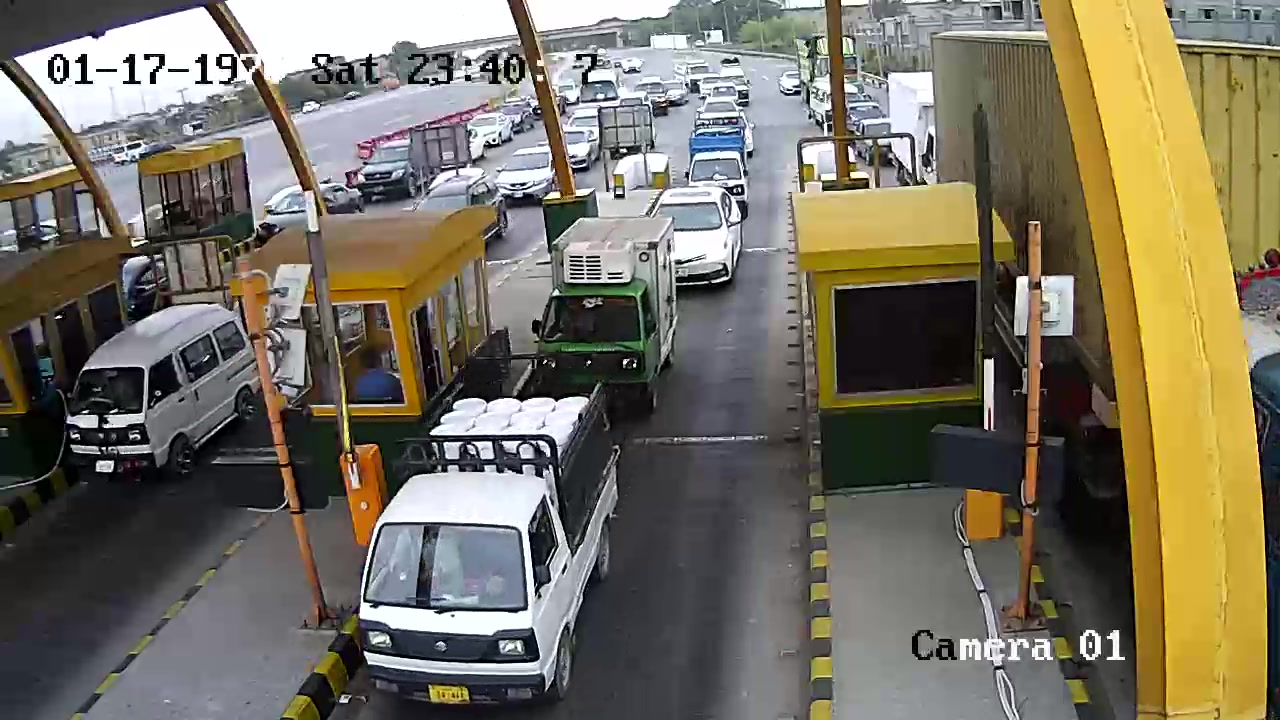F1: (358, 374, 629, 712), (527, 210, 691, 403)
